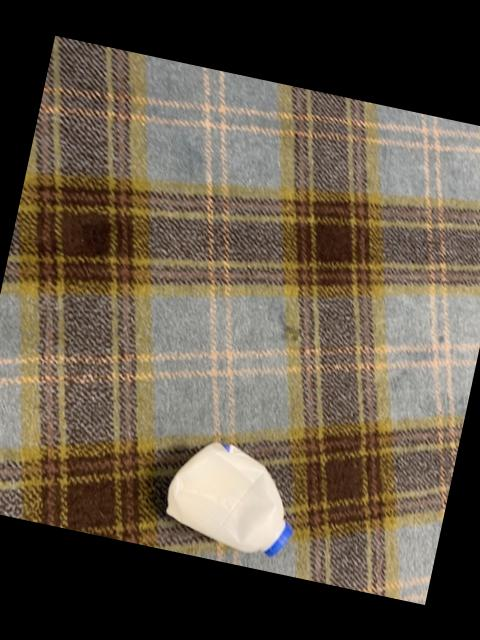plastic: (165, 440, 290, 554)
